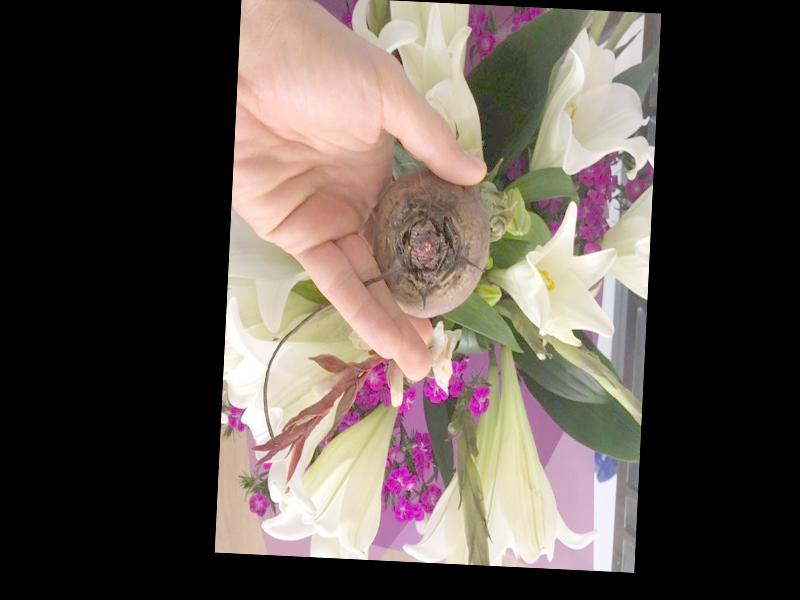Beet: (365, 167, 493, 323)
